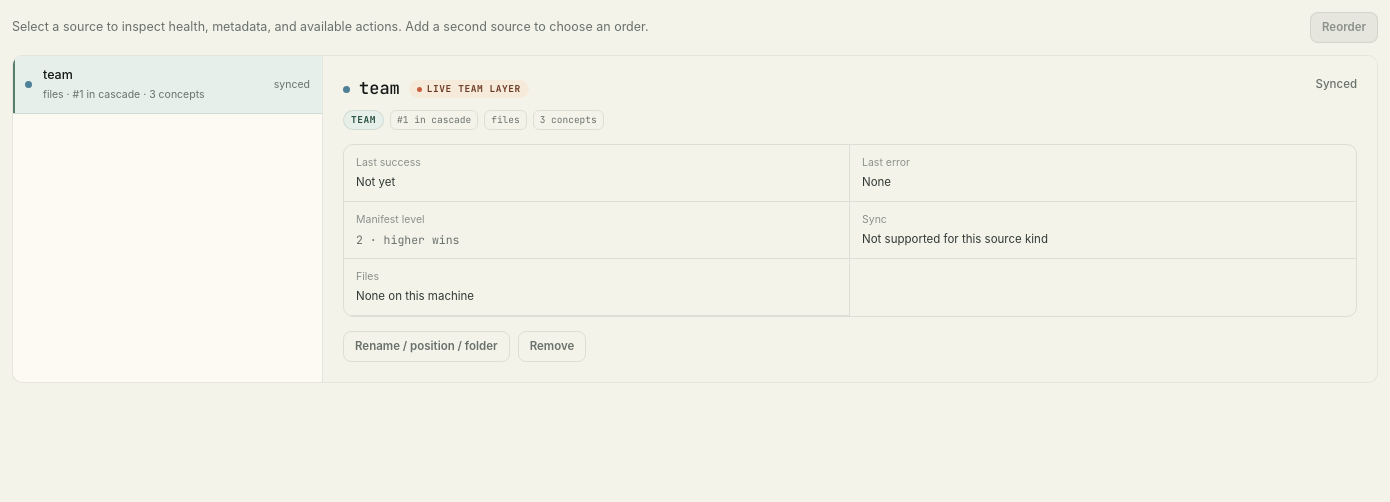
it: Sources remove › warns that removing the live layer disables team capture for this machine
What coordinates should you click on to do the following:
click the button "Remove"
I would click on:
 (552, 347)
Its box is x1=518 y1=331 x2=586 y2=362.
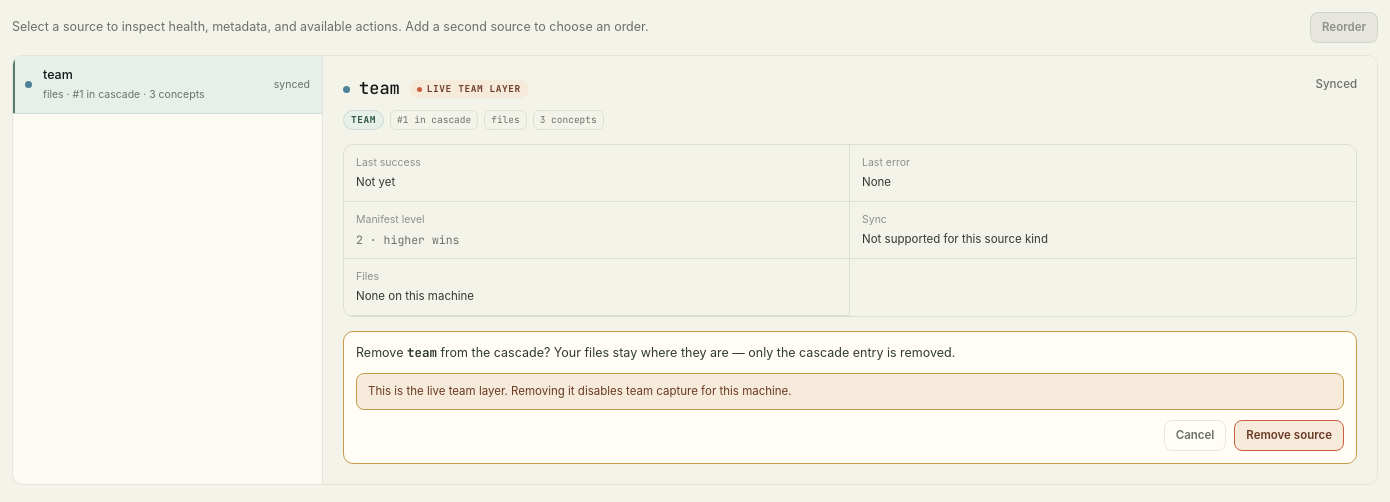
Check: the text "disables team capture for this machine" is shown, box x1=565 y1=384 x2=788 y2=398
